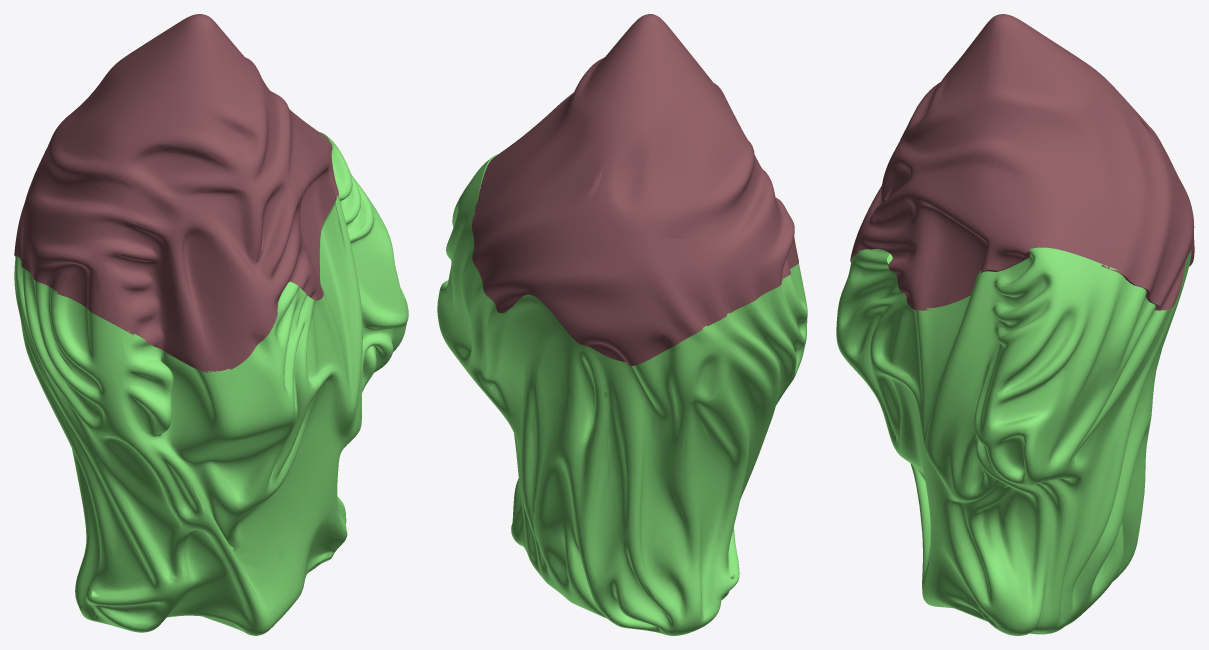
3 renders of one model, left to right at view 1: azimuth 30°, elevation 25°; view 2: azimuth 150°, elevation 25°; view 3: azimuth 270°, elevation 25°, orthographic. The views are drawn at different scales.
Parts seen in each view (by area): view 1: material, material.001; view 2: material, material.001; view 3: material, material.001.
Part boxes in pixels (<box>): material: <box>14,132,408,635</box>; material.001: <box>14,14,338,372</box>; material: <box>437,154,807,635</box>; material.001: <box>472,14,798,365</box>; material: <box>836,247,1191,635</box>; material.001: <box>850,14,1194,310</box>.
Bounding box in the file's own units: 2.14 × 3.44 × 1.88.
